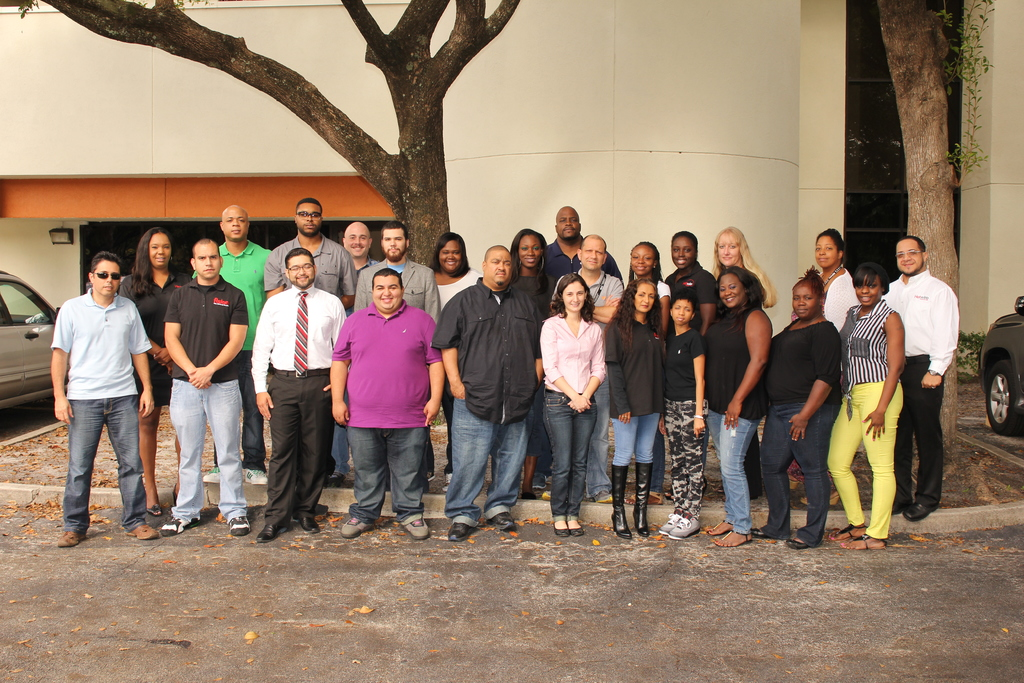Footwear: (158, 518, 202, 536), (668, 516, 701, 540), (714, 528, 753, 548), (340, 518, 373, 539), (843, 534, 885, 549), (900, 502, 935, 520), (623, 489, 664, 504), (828, 523, 864, 540), (257, 524, 289, 541), (447, 523, 476, 541), (58, 529, 86, 547), (804, 493, 840, 507), (294, 506, 329, 520), (489, 513, 516, 531), (404, 519, 428, 539), (659, 511, 679, 533), (243, 468, 266, 486), (707, 520, 738, 533), (129, 525, 157, 539), (229, 516, 249, 534), (300, 515, 318, 533), (550, 525, 570, 539), (594, 490, 614, 504), (785, 540, 812, 549), (442, 470, 452, 491), (204, 468, 218, 481), (326, 473, 344, 483), (532, 474, 544, 489), (568, 525, 583, 537), (750, 529, 772, 536), (520, 490, 536, 499), (148, 504, 161, 515), (426, 473, 436, 481), (543, 489, 549, 499)
